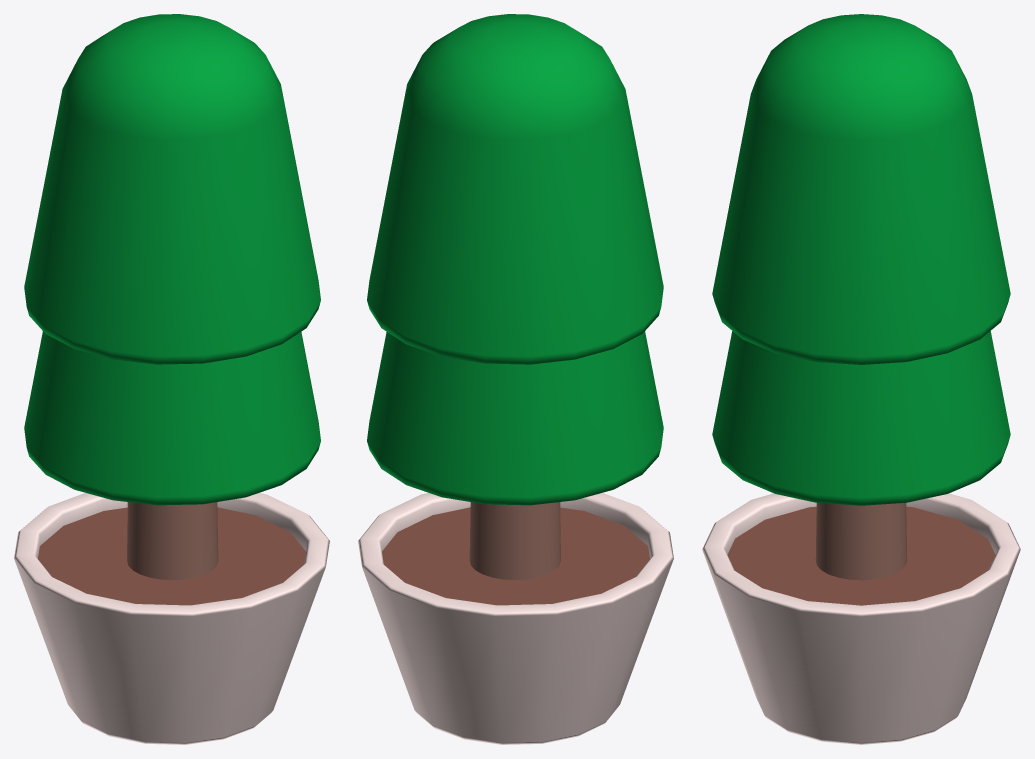
Rendered from City_8_Plant_5.glb.
The picture shows the model from 3 angles, left to right: view 1: azimuth 30°, elevation 25°; view 2: azimuth 150°, elevation 25°; view 3: azimuth 270°, elevation 25°; orthographic projection.
Parts seen in each view (by area): view 1: City_8_Plant_5; view 2: City_8_Plant_5; view 3: City_8_Plant_5.
Part boxes in pixels (x1,y1,x2,y2): City_8_Plant_5: (14, 14, 329, 744); City_8_Plant_5: (358, 14, 673, 744); City_8_Plant_5: (702, 14, 1020, 744).
Bounding box in the file's own units: 0.653 × 1.51 × 0.653.
1 material, 1 textured.
